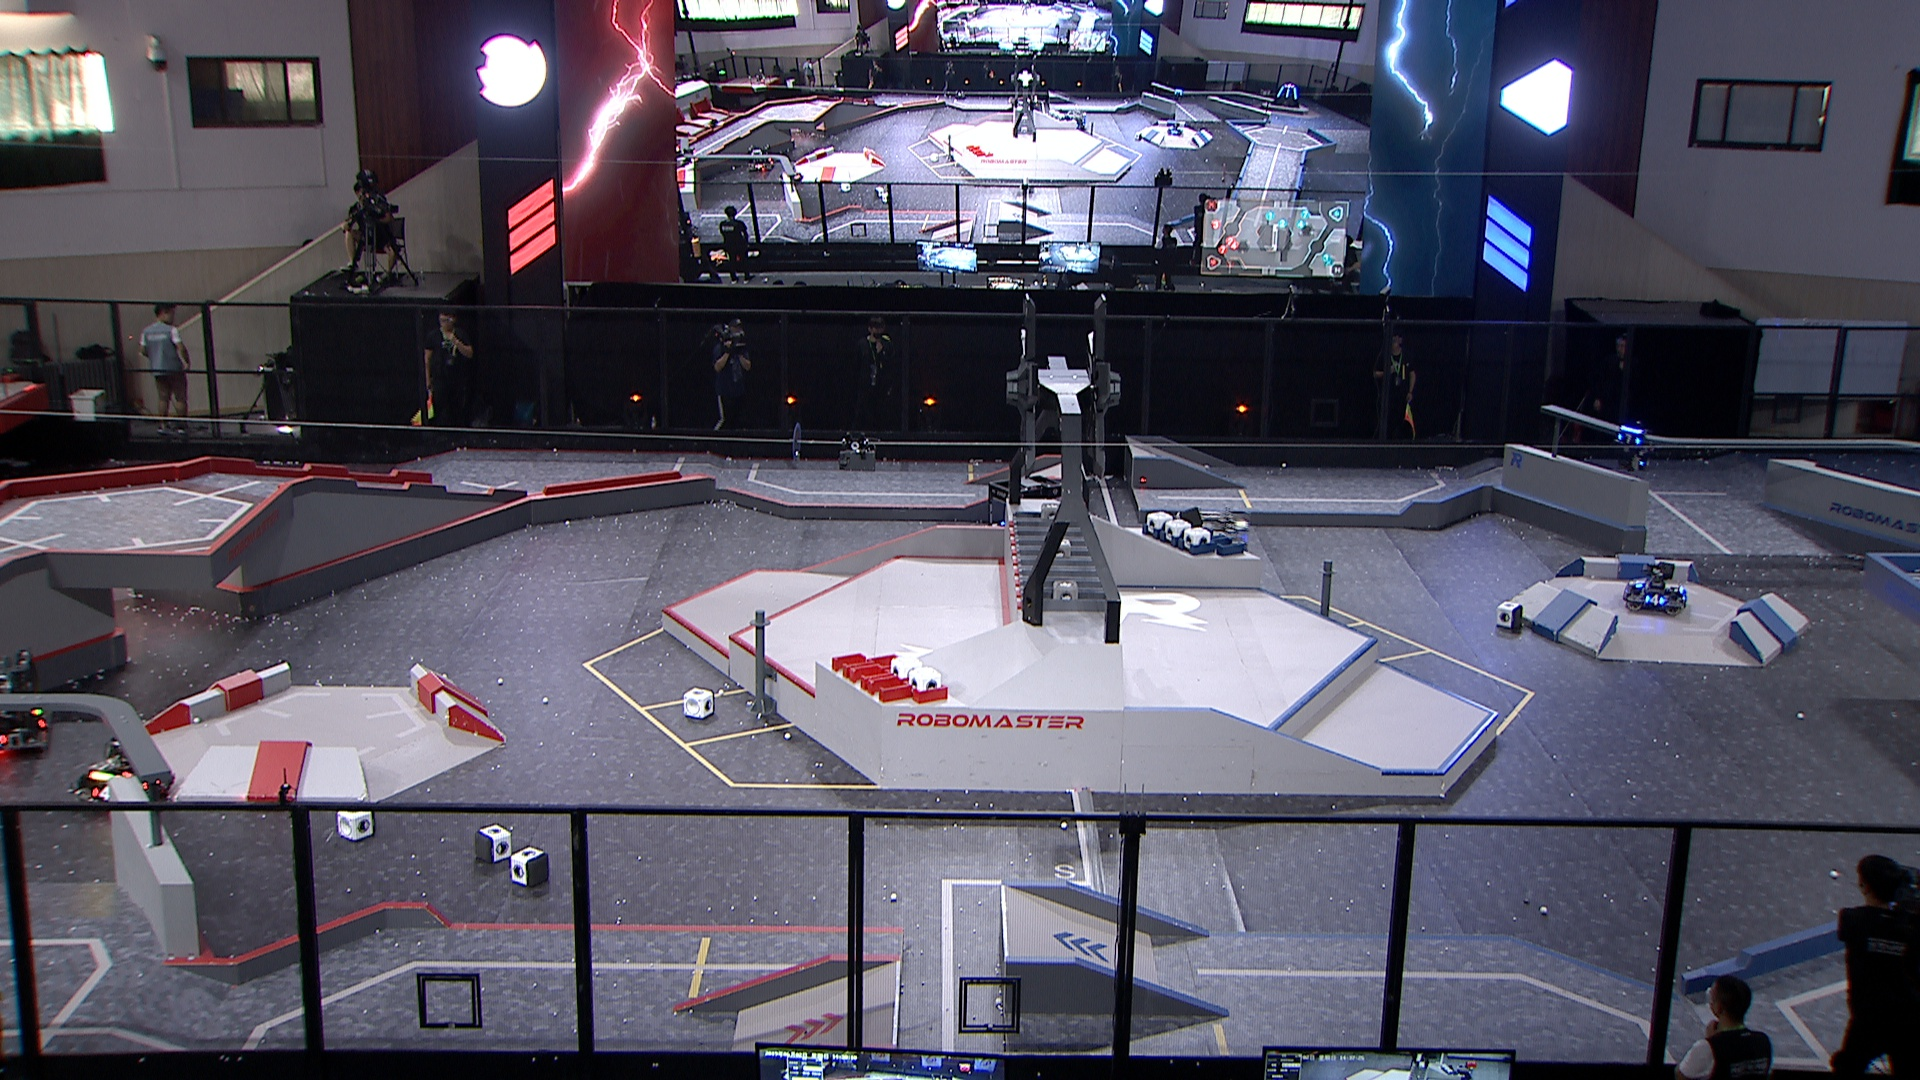armor: (90, 785, 112, 804), (1615, 433, 1643, 447), (1644, 593, 1667, 607), (1633, 578, 1648, 589)
car: (1159, 508, 1251, 597), (69, 731, 174, 808), (981, 475, 1069, 559), (1623, 559, 1692, 618)
ignore: (1271, 82, 1302, 111), (745, 144, 775, 173), (1062, 109, 1088, 131), (674, 144, 698, 166), (1171, 88, 1185, 104), (1168, 120, 1183, 136), (789, 171, 804, 185)
watcher: (1615, 423, 1659, 472)
